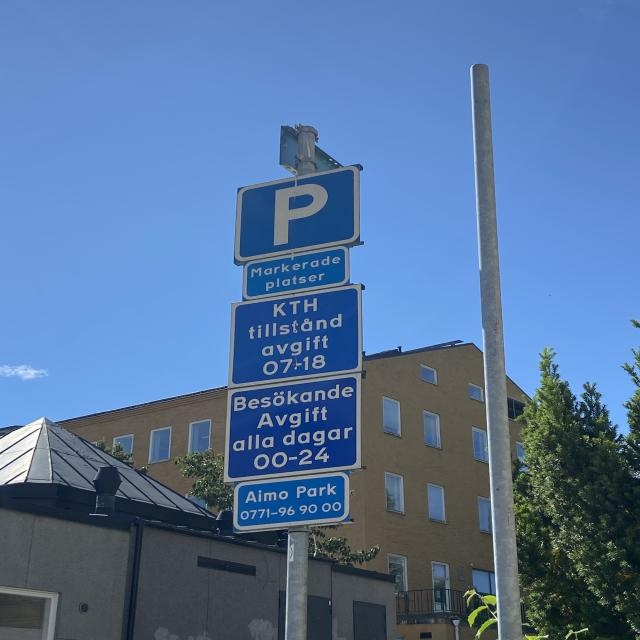P-skylt: (231, 162, 363, 264)
